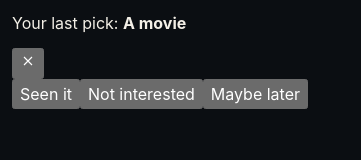
Test: failed watch update stays retryable and does not show success
Click the button "Seen it". click: x=46, y=94
box: [12,79,80,109]
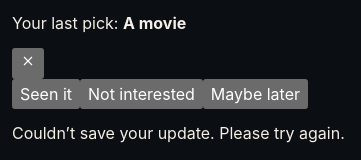
Result: the message shows "Couldn’t save" at [12,123,345,143]
